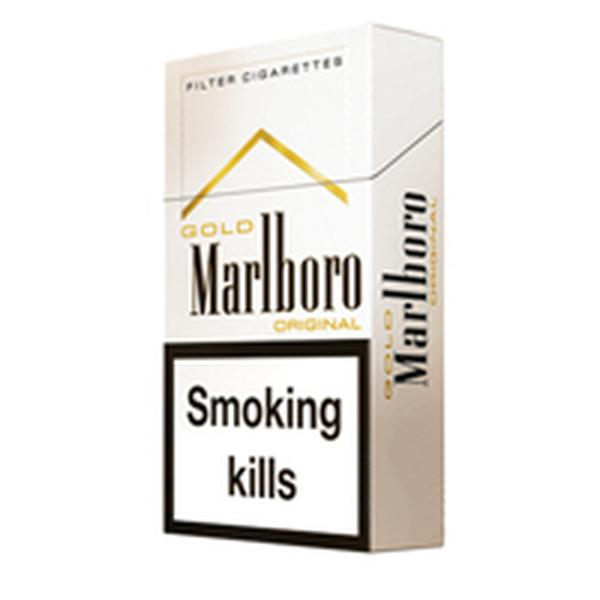marlboro_gold: (163, 47, 373, 531)
